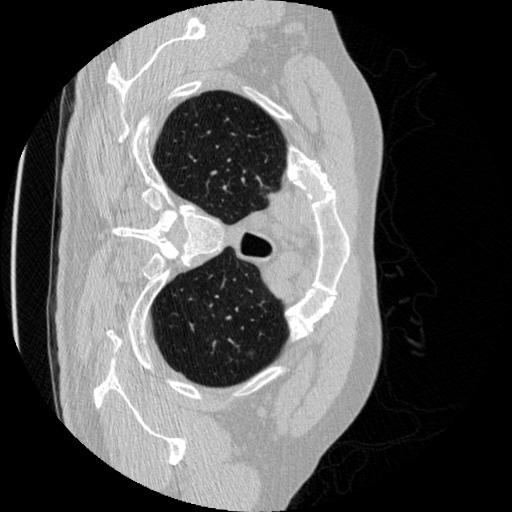nodule: (246, 351, 258, 363)
